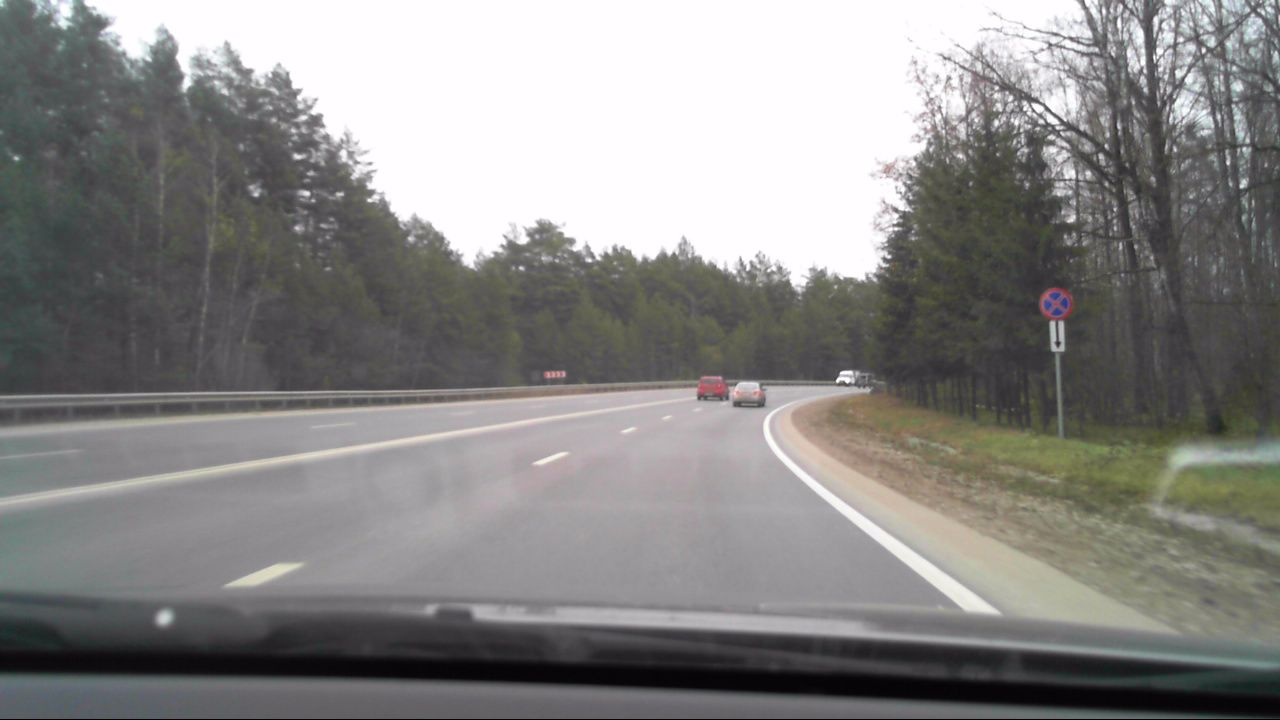No Parking: (1039, 288, 1072, 322)
